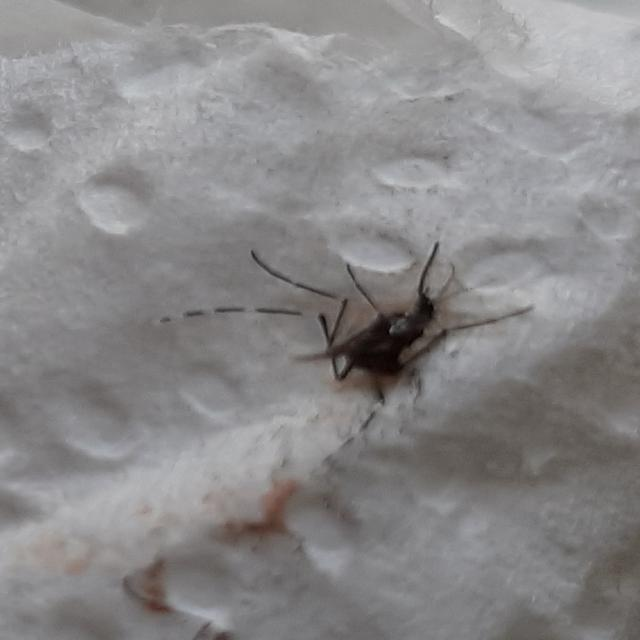albopictus: (194, 221, 544, 443)
